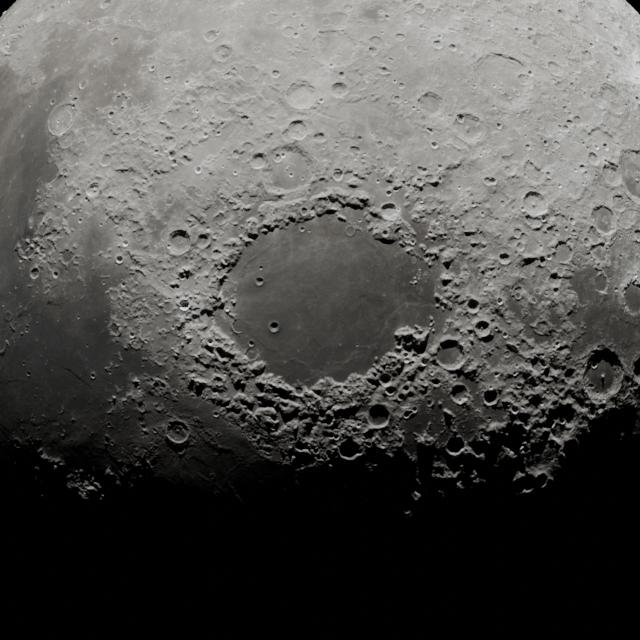crater: (578, 348, 624, 405), (46, 98, 79, 141), (334, 431, 368, 465), (518, 188, 552, 222), (432, 336, 463, 372), (454, 110, 484, 145), (617, 276, 640, 318), (590, 199, 616, 236), (165, 226, 194, 259), (161, 418, 193, 447), (364, 403, 396, 431), (414, 89, 442, 117), (441, 431, 467, 459), (551, 238, 573, 267), (446, 383, 471, 404), (480, 388, 503, 407), (329, 78, 349, 99), (265, 318, 283, 340), (592, 271, 608, 295), (250, 149, 269, 169), (473, 318, 492, 335), (462, 293, 477, 313), (380, 200, 398, 216), (534, 319, 552, 335), (496, 249, 512, 266), (252, 273, 266, 287)
rock: (595, 365, 612, 386)
